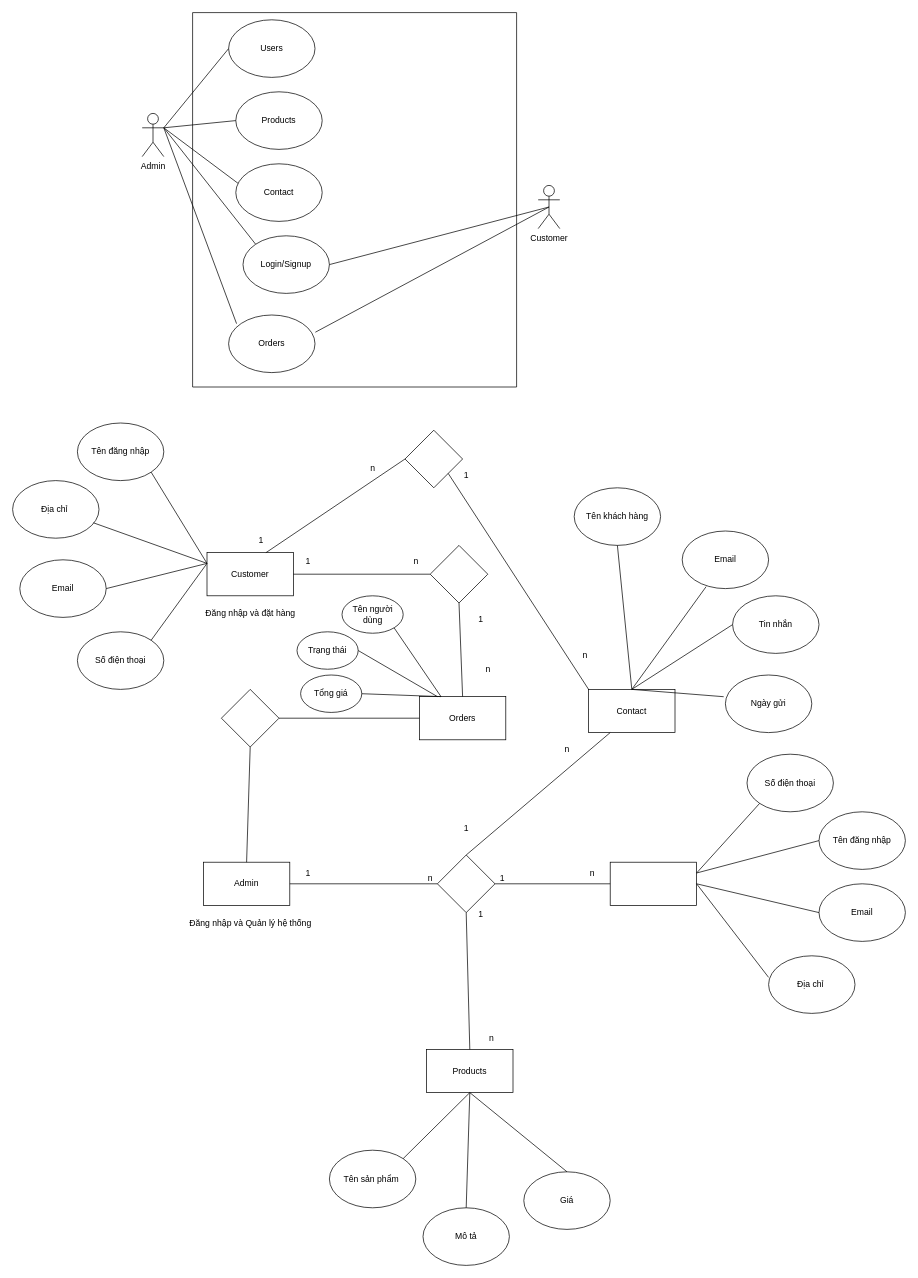
Image size: 918x1278. Some labels were removed from this diagram. The box of each missing label's shape, as (x1, y1, x2, y2) in pixels:
Giao thành công/ Đang giao: (221, 689, 279, 747)
Phản hồi: (404, 429, 463, 488)
Quản lý: (437, 854, 495, 913)
User: (609, 861, 697, 905)
Đặt hàng: (429, 545, 488, 603)
